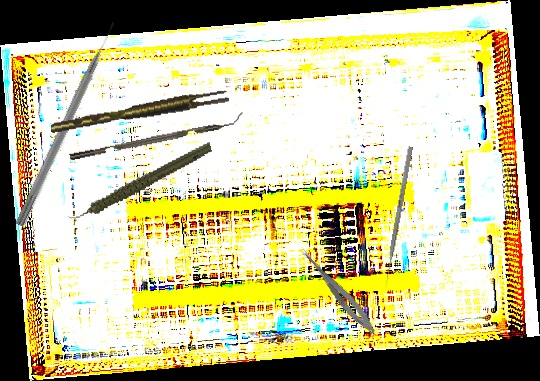Chopper: (67, 111, 246, 161)
Handpiece: (58, 140, 221, 223)
Micro Scissor: (293, 243, 380, 338)
Pusher: (14, 20, 121, 229), (383, 146, 413, 289)
Tissue Forceps: (49, 89, 230, 133)
